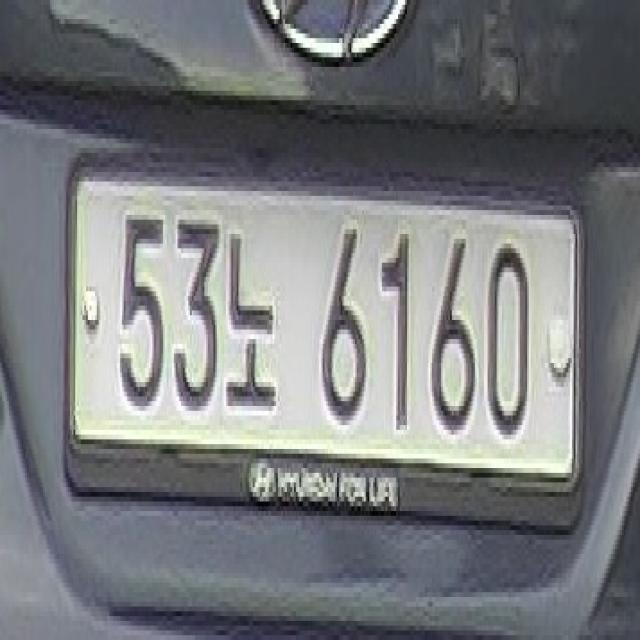0: (477, 248, 534, 449)
1: (370, 215, 420, 430)
3: (170, 215, 220, 415)
5: (110, 210, 168, 411)
6: (312, 215, 369, 439), (427, 220, 482, 439)
license_plate: (65, 177, 586, 549)
no: (215, 215, 285, 420)
